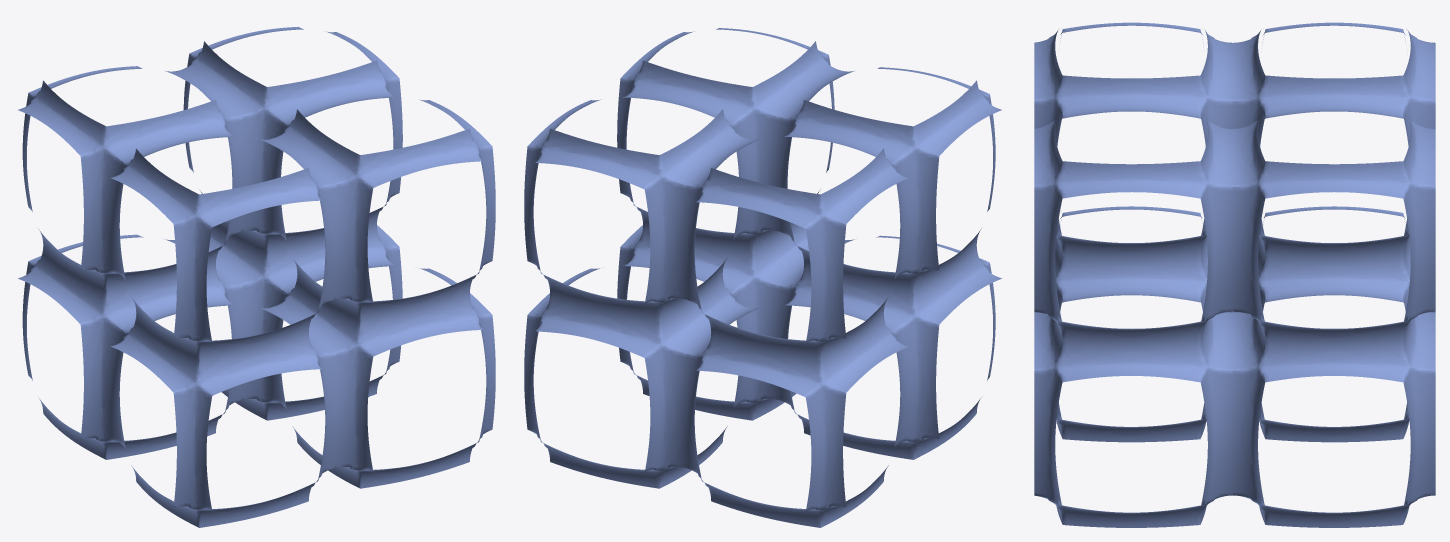
The picture shows the model from 3 angles, left to right: view 1: azimuth 30°, elevation 25°; view 2: azimuth 150°, elevation 25°; view 3: azimuth 270°, elevation 25°; orthographic projection. The views are drawn at different scales.
Parts seen in each view (by area): view 1: world; view 2: world; view 3: world.
Boxes of the visible parts, x1=… form: world: x1=18, y1=26, x2=495, y2=527; world: x1=524, y1=28, x2=1001, y2=527; world: x1=1034, y1=22, x2=1435, y2=527.
Size of the model in its own units: 99 by 99 by 99.
